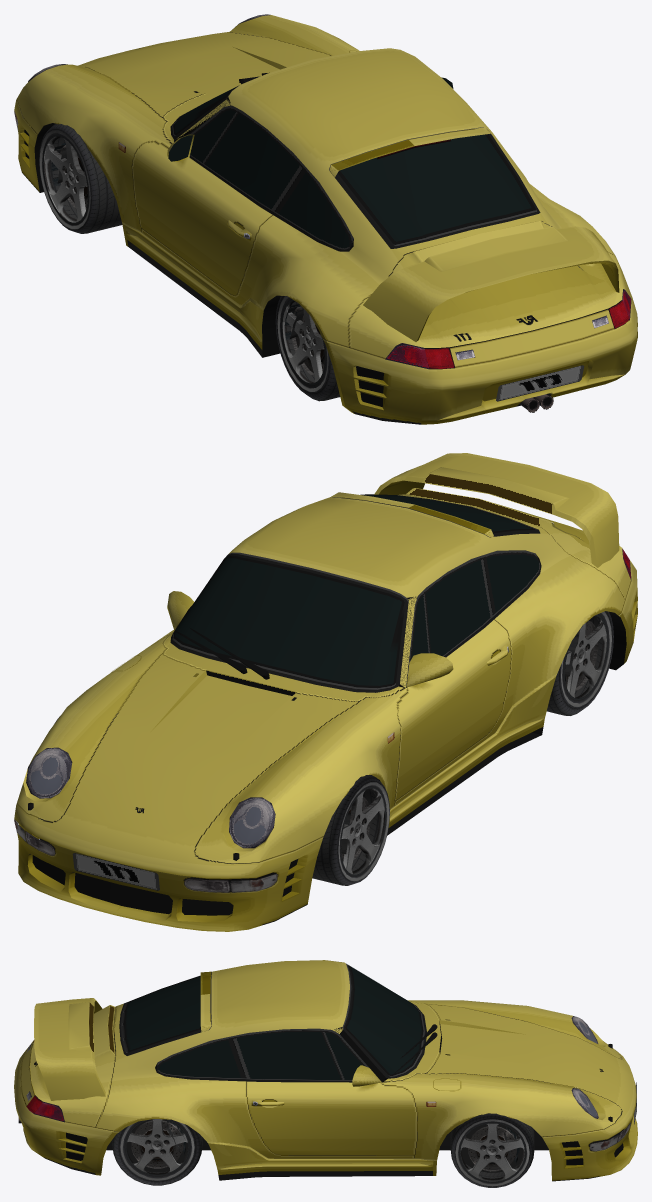
Rendered from ruf_0002.glb.
3 views of the same model, one above another, from view 1: azimuth 30°, elevation 25°; view 2: azimuth 150°, elevation 25°; view 3: azimuth 270°, elevation 25° (orthographic). The views are drawn at different scales.
Visible parts, largest first — view 1: body, tire_rear_right, wheel_rear_right, wheel_front_right, tire_front_right; view 2: body, tire_rear_right, wheel_rear_right, wheel_front_right, tire_front_right; view 3: body, tire_rear_left, wheel_rear_left, tire_front_left, wheel_front_left.
Boxes of the visible parts, bbox=[...] form: body: bbox=[14, 14, 637, 424]; tire_rear_right: bbox=[39, 124, 122, 233]; wheel_rear_right: bbox=[39, 130, 90, 229]; wheel_front_right: bbox=[277, 296, 328, 391]; tire_front_right: bbox=[275, 296, 362, 401]; body: bbox=[14, 453, 637, 931]; tire_rear_right: bbox=[312, 775, 389, 885]; wheel_rear_right: bbox=[338, 782, 389, 881]; wheel_front_right: bbox=[561, 611, 611, 706]; tire_front_right: bbox=[547, 611, 613, 715]; body: bbox=[14, 960, 637, 1181]; tire_rear_left: bbox=[450, 1113, 534, 1187]; wheel_rear_left: bbox=[455, 1119, 529, 1186]; tire_front_left: bbox=[112, 1119, 202, 1185]; wheel_front_left: bbox=[120, 1119, 194, 1180].
Bounding box in the file's own units: 1.73 × 1.16 × 4.29.
Materials: 41 (41 with a texture image).
